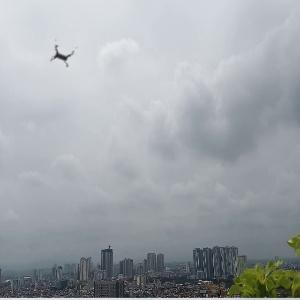drone: (36, 28, 91, 83)
